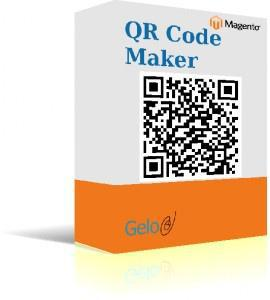Finder pattern: (139, 152, 165, 180), (142, 73, 167, 99), (216, 77, 239, 103)
